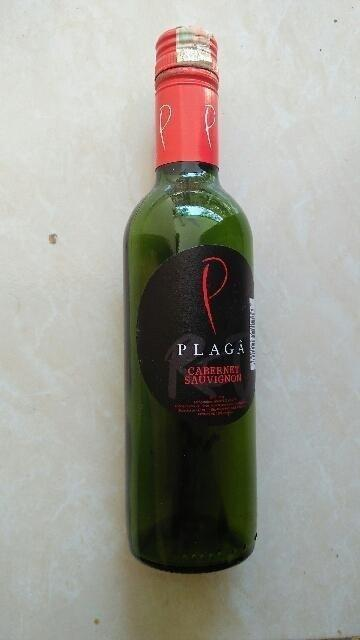bottle-glass: (120, 20, 262, 575)
